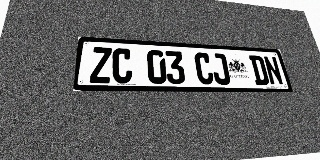0: (147, 50, 167, 84)
3: (165, 51, 186, 84)
C: (112, 48, 132, 83), (194, 52, 215, 84)
D: (249, 55, 270, 85)
J: (210, 53, 231, 85)
N: (263, 56, 284, 85)
Z: (90, 47, 112, 83)
